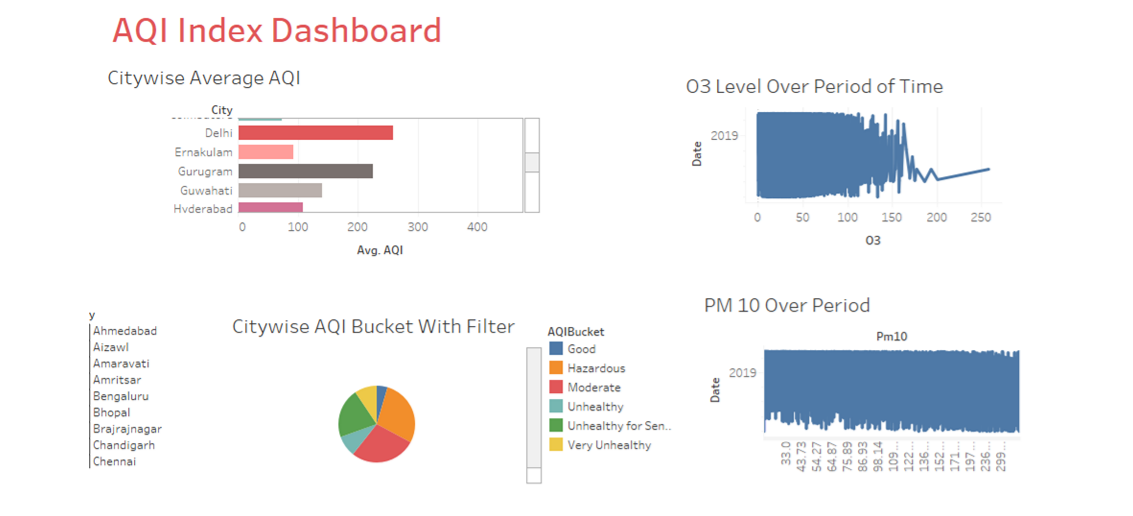

What the dashboard file says about the page in this screenshot:
{"tool":"tableau","page":{"name":"Dashboard 1","canvas":[1000,800],"ordinal":0},"visuals":[{"type":"text","box":[17,11,632,52]},{"type":"worksheet","title":"Sheet 1","mark":"Automatic","rows":["City"],"cols":["AQI"],"box":[15,67,455,217]},{"type":"worksheet","title":"Sheet 3","mark":"Line","rows":["Date"],"cols":["O3"],"box":[618,76,333,197]},{"type":"worksheet","title":"Sheet 4","mark":"Line","rows":["Date"],"cols":["PM10"],"box":[637,304,333,197]},{"type":"worksheet","title":"Sheet 2","mark":"Pie","box":[145,326,327,184]},{"type":"legend","title":"Sheet 2","param":"[federated.1s2azf505x38gd1d3ty1e195gb1e].[none:Calculation_792070628455636992:nk","box":[477,342,135,138]}]}

Visuals, with their boxes on the page's 1000x800 design canvas (x1, y1, x2, y2). These are canvas units, not pixel positions in the 1133x516 screenshot, which may show the page scaled, cropped or inside an application window:
text: [x1=17, y1=11, x2=649, y2=63]
"Sheet 1" worksheet: [x1=15, y1=67, x2=470, y2=284]
"Sheet 3" worksheet (Line marks): [x1=618, y1=76, x2=951, y2=273]
"Sheet 4" worksheet (Line marks): [x1=637, y1=304, x2=970, y2=501]
"Sheet 2" worksheet (Pie marks): [x1=145, y1=326, x2=472, y2=510]
"Sheet 2" legend: [x1=477, y1=342, x2=612, y2=480]
